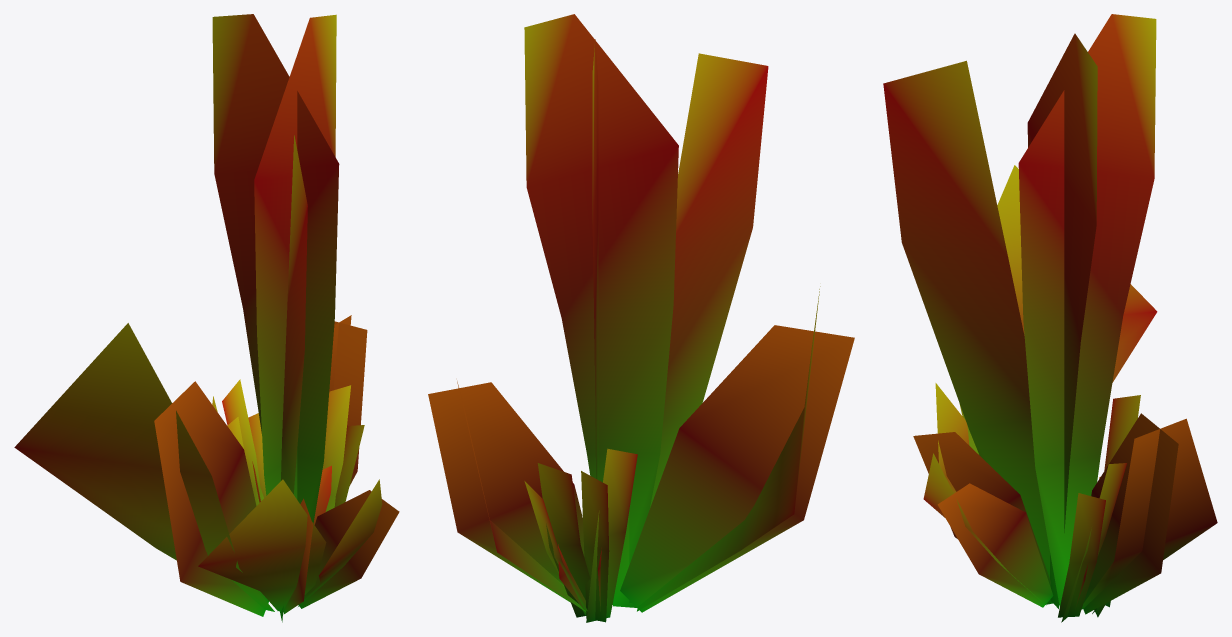
The model's file is Dead Broom Bush_LOD1_Var3_tlpjdhwia.fbx.
3 views of the same model, side by side, from view 1: azimuth 30°, elevation 25°; view 2: azimuth 150°, elevation 25°; view 3: azimuth 270°, elevation 25° (orthographic). The views are drawn at different scales.
Parts seen in each view (by area): view 1: _35af_Var3_LOD1; view 2: _35af_Var3_LOD1; view 3: _35af_Var3_LOD1.
Part boxes in pixels (x1,y1,x2,y2): _35af_Var3_LOD1: (14,14,399,622); _35af_Var3_LOD1: (428,14,854,622); _35af_Var3_LOD1: (883,14,1217,622).
Size of the model in its own units: 27.02 by 43.24 by 22.03.
